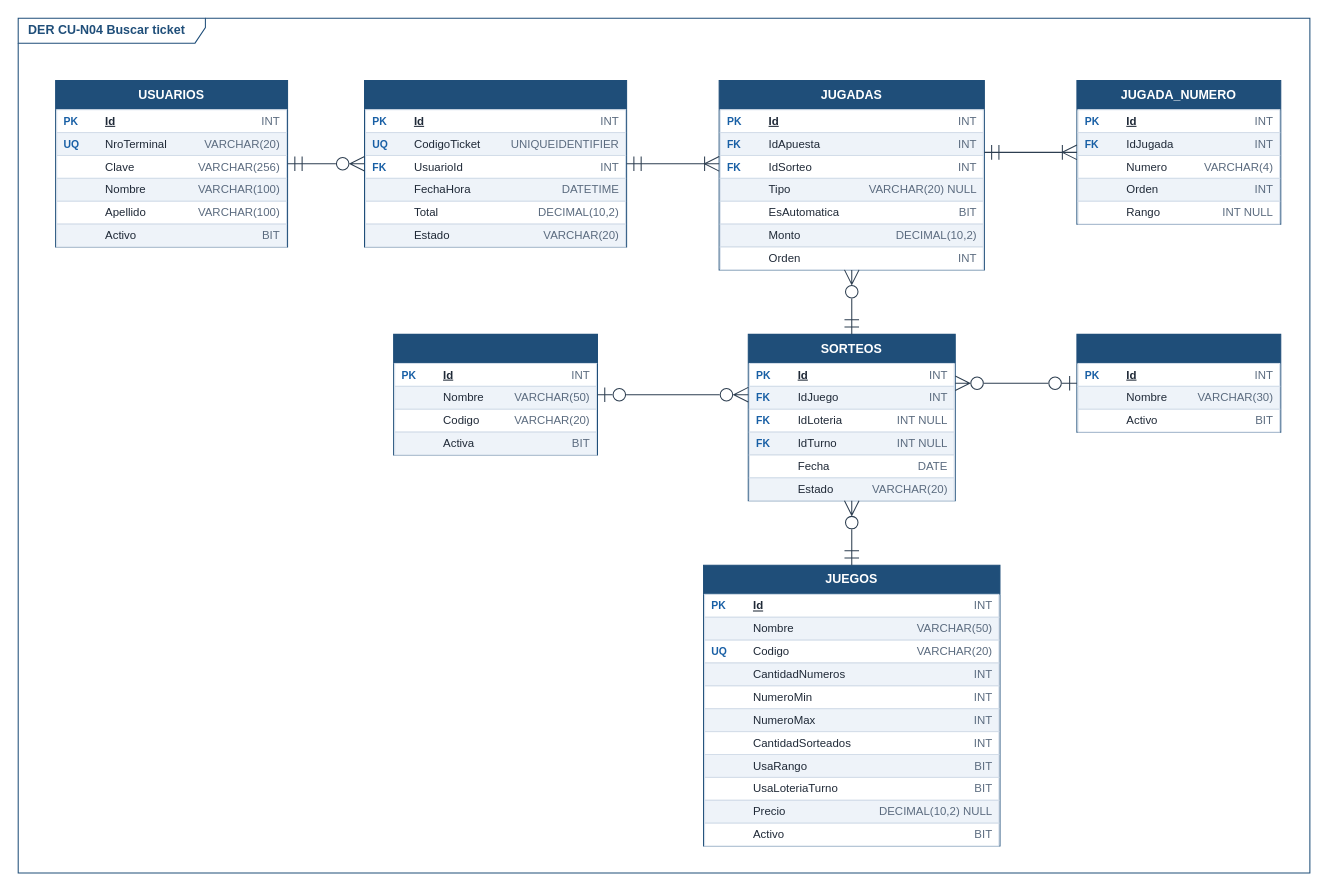
Image size: 1328x891. Some labels were removed from this diagram. The shapes that lost their labels are listed below. From the top down, each one's box as (x1, y1, x2, y2) in pixels, then its label:
(363, 80, 627, 247): APUESTAS
(393, 333, 597, 455): LOTERIAS
(1076, 333, 1281, 432): TURNOS
